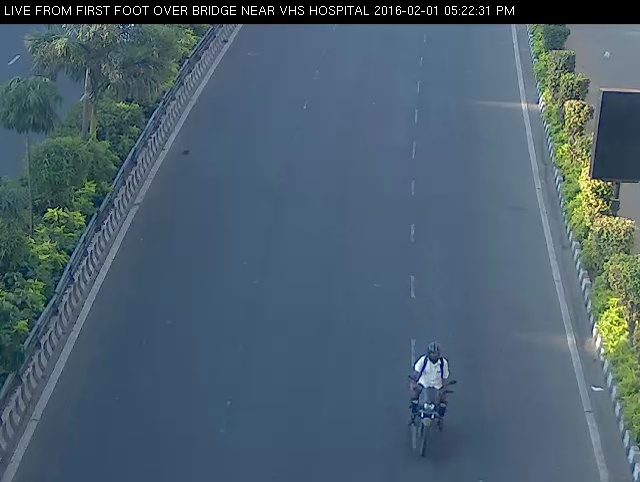Person: (388, 328, 468, 460)
